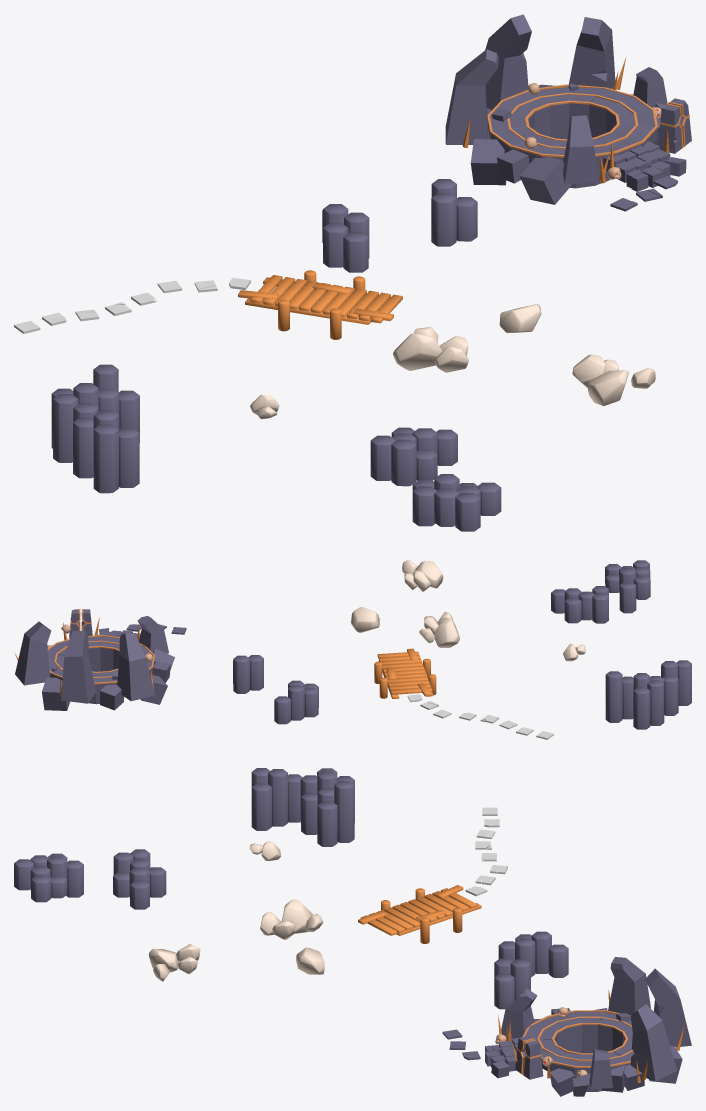
File: sceneryStaticVisual.glb
3 views of the same model, one above another, from view 1: azimuth 30°, elevation 25°; view 2: azimuth 150°, elevation 25°; view 3: azimuth 270°, elevation 25° (orthographic). The views are drawn at different scales.
Parts seen in each view (by area): view 1: Cylinder.022, Cube.172, Cylinder.021, Cube.139, Cube.173, Cylinder.024, Cube.147, Cube.122, Cube.185, Cube.129, Cube.124; view 2: Cylinder.022, Cube.172, Cube.139, Cylinder.021, Cube.173, Cube.147, Cylinder.024, Cube.124, Cube.122, Cube.129, Cube.185; view 3: Cylinder.022, Cube.172, Cylinder.021, Cube.139, Cube.173, Cylinder.024, Cube.147, Cube.185, Cube.122, Cube.124.
Part boxes in pixels (left/top/right/bottom): Cylinder.022: left=51, top=179, right=501, bottom=531; Cube.172: left=445, top=14, right=667, bottom=183; Cylinder.021: left=488, top=87, right=686, bottom=191; Cube.139: left=238, top=270, right=402, bottom=339; Cube.173: left=470, top=84, right=665, bottom=204; Cylinder.024: left=487, top=84, right=657, bottom=157; Cube.147: left=14, top=280, right=217, bottom=333; Cube.122: left=393, top=333, right=442, bottom=370; Cube.185: left=658, top=98, right=691, bottom=153; Cube.129: left=587, top=370, right=628, bottom=406; Cube.124: left=499, top=304, right=541, bottom=333; Cylinder.022: left=233, top=560, right=691, bottom=729; Cube.172: left=15, top=616, right=168, bottom=703; Cube.139: left=374, top=648, right=436, bottom=698; Cylinder.021: left=47, top=628, right=154, bottom=704; Cube.173: left=42, top=648, right=174, bottom=710; Cube.147: left=420, top=701, right=553, bottom=739; Cylinder.024: left=47, top=635, right=154, bottom=684; Cube.124: left=351, top=607, right=379, bottom=632; Cube.122: left=433, top=617, right=459, bottom=647; Cube.129: left=415, top=561, right=443, bottom=588; Cube.185: left=69, top=609, right=92, bottom=638; Cylinder.022: left=14, top=768, right=568, bottom=1009; Cube.172: left=501, top=957, right=691, bottom=1088; Cylinder.021: left=485, top=1011, right=634, bottom=1091; Cube.139: left=358, top=885, right=481, bottom=943; Cube.173: left=534, top=1008, right=682, bottom=1096; Cylinder.024: left=522, top=1010, right=632, bottom=1067; Cube.147: left=475, top=807, right=507, bottom=885; Cube.185: left=515, top=1035, right=543, bottom=1079; Cube.122: left=282, top=899, right=312, bottom=933; Cube.124: left=296, top=947, right=324, bottom=974.
Bounding box in the file's own units: 51.63 × 8.2 × 48.62.
